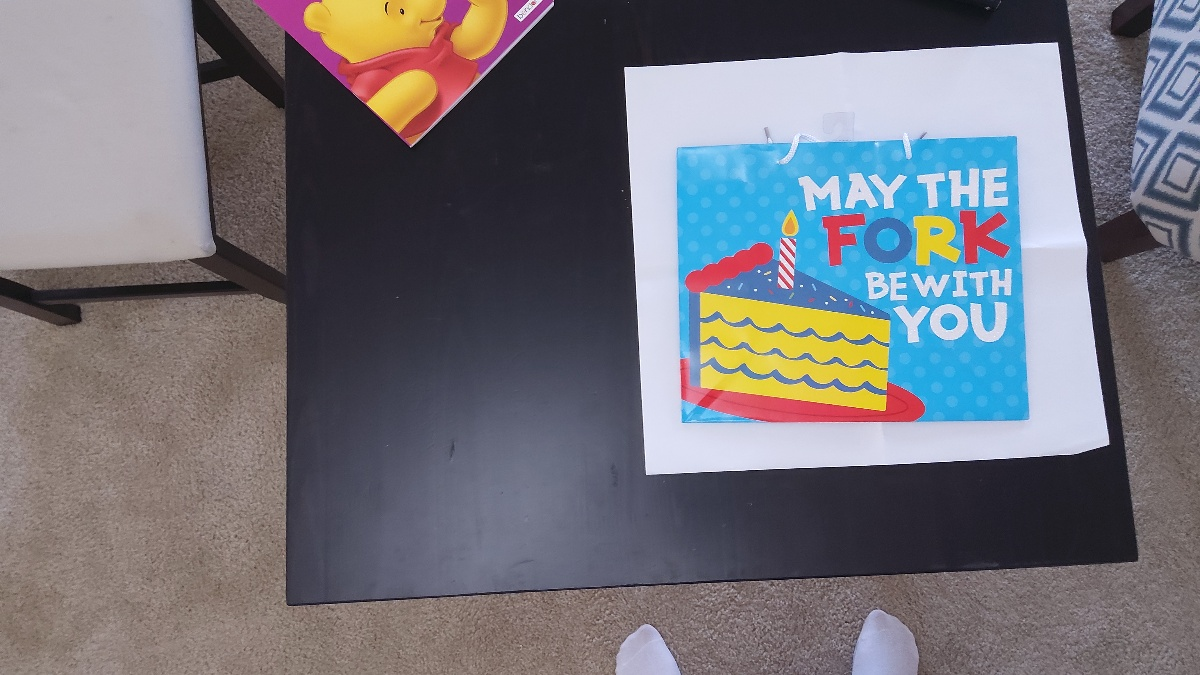paper_bag: (681, 148, 1027, 425)
